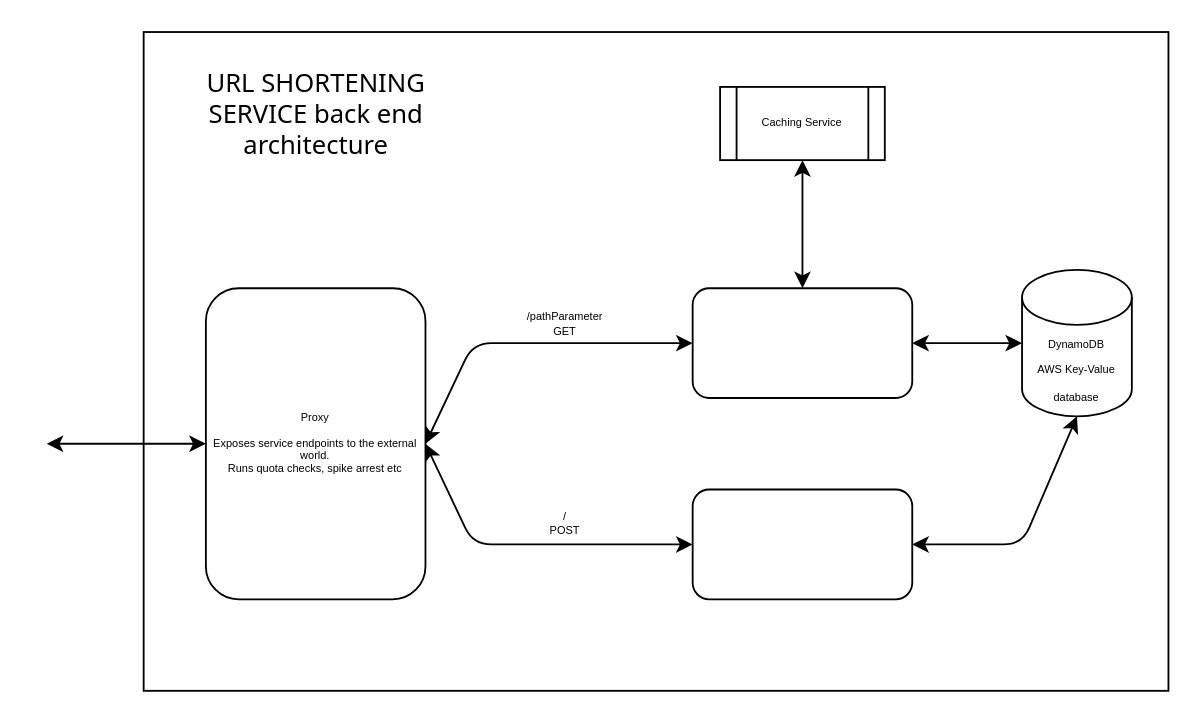
Image size: 1200x723. Some labels were removed from this diagram. The box of each missing label's shape, as (x1, y1, x2, y2) in pixels:
Creates a new shortened url and stores it in database: (691, 488, 912, 599)
Runtime Tries a cache hit and if fails, queries the database: (691, 286, 912, 398)
